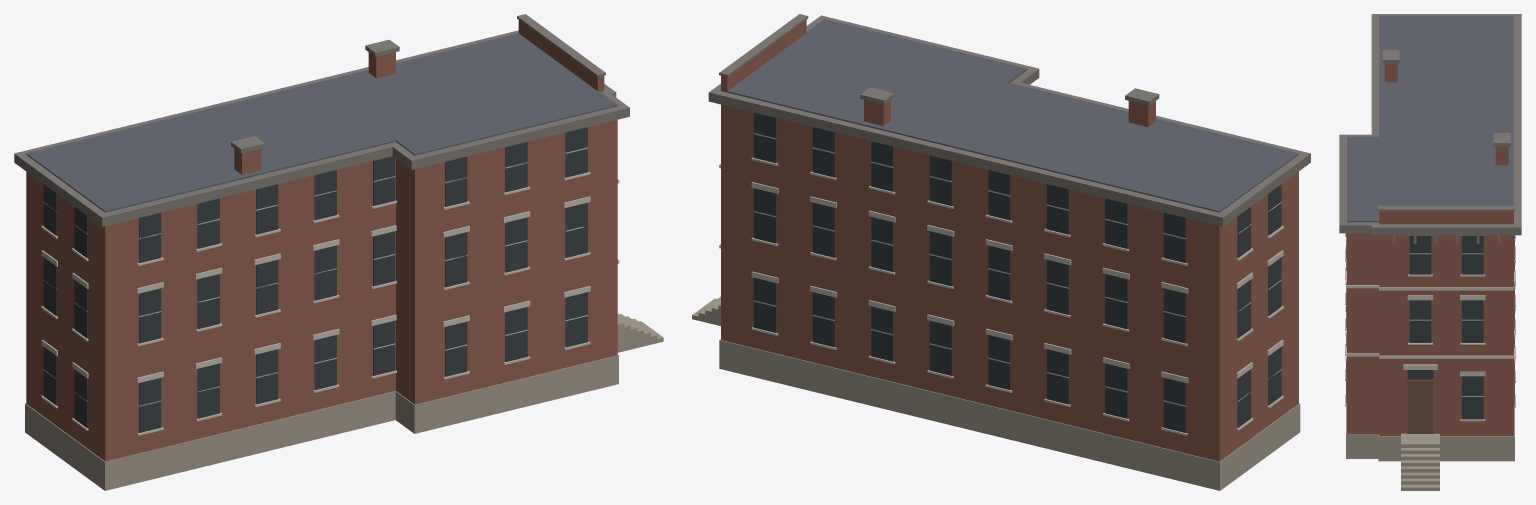
Rendered from house_1730_prairie__draft_1904.glb.
3 renders of one model, left to right at view 1: azimuth 30°, elevation 25°; view 2: azimuth 150°, elevation 25°; view 3: azimuth 270°, elevation 25°, orthographic. The views are drawn at different scales.
Visible parts, largest first — view 1: house_1730_prairie__draft_1904; view 2: house_1730_prairie__draft_1904; view 3: house_1730_prairie__draft_1904.
Part boxes in pixels (left/top/right/bottom): house_1730_prairie__draft_1904: left=14, top=14, right=663, bottom=490; house_1730_prairie__draft_1904: left=692, top=14, right=1310, bottom=490; house_1730_prairie__draft_1904: left=1339, top=14, right=1521, bottom=490.
Size of the model in its own units: 26.4 by 13.34 by 8.45.
